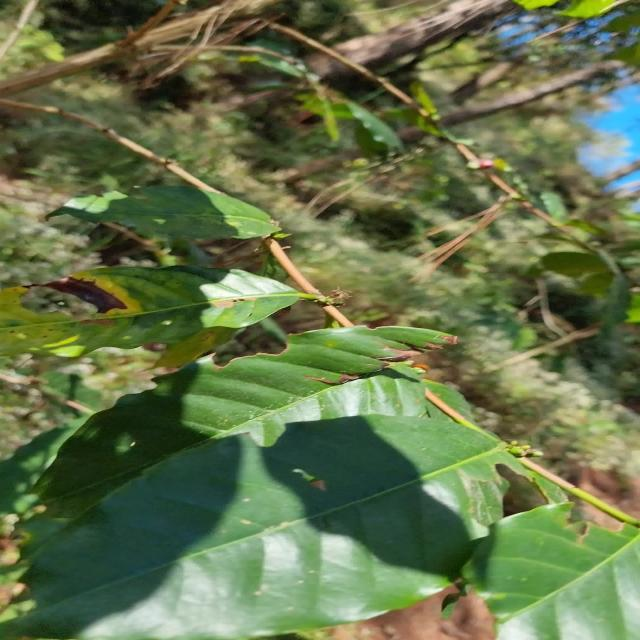leaves: (0, 392, 529, 640), (19, 297, 470, 511), (0, 243, 309, 365), (50, 186, 280, 239)
